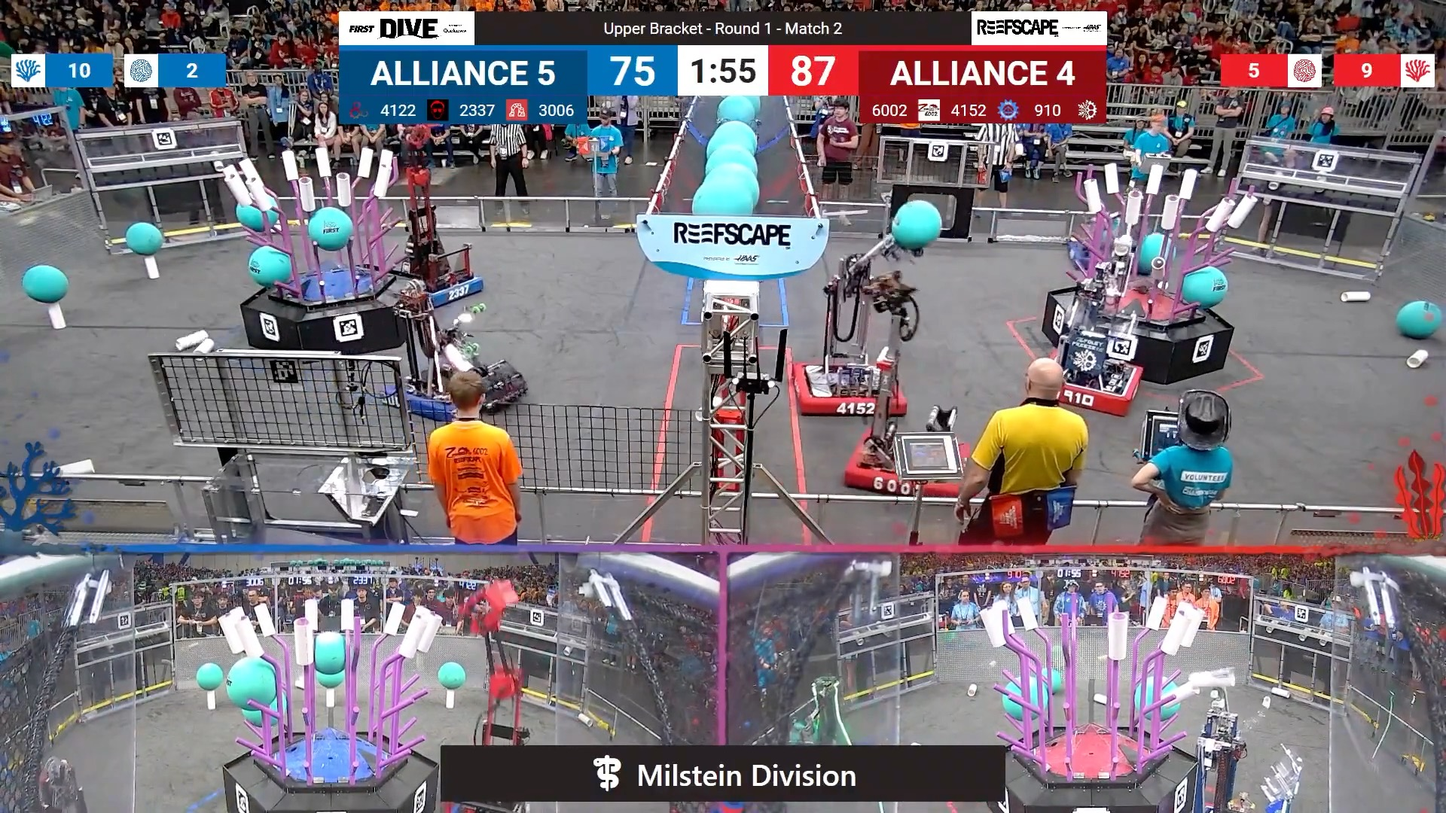bumpers: (840, 430, 973, 502), (386, 367, 529, 422), (786, 361, 913, 421), (1052, 361, 1149, 418), (398, 267, 489, 312)
